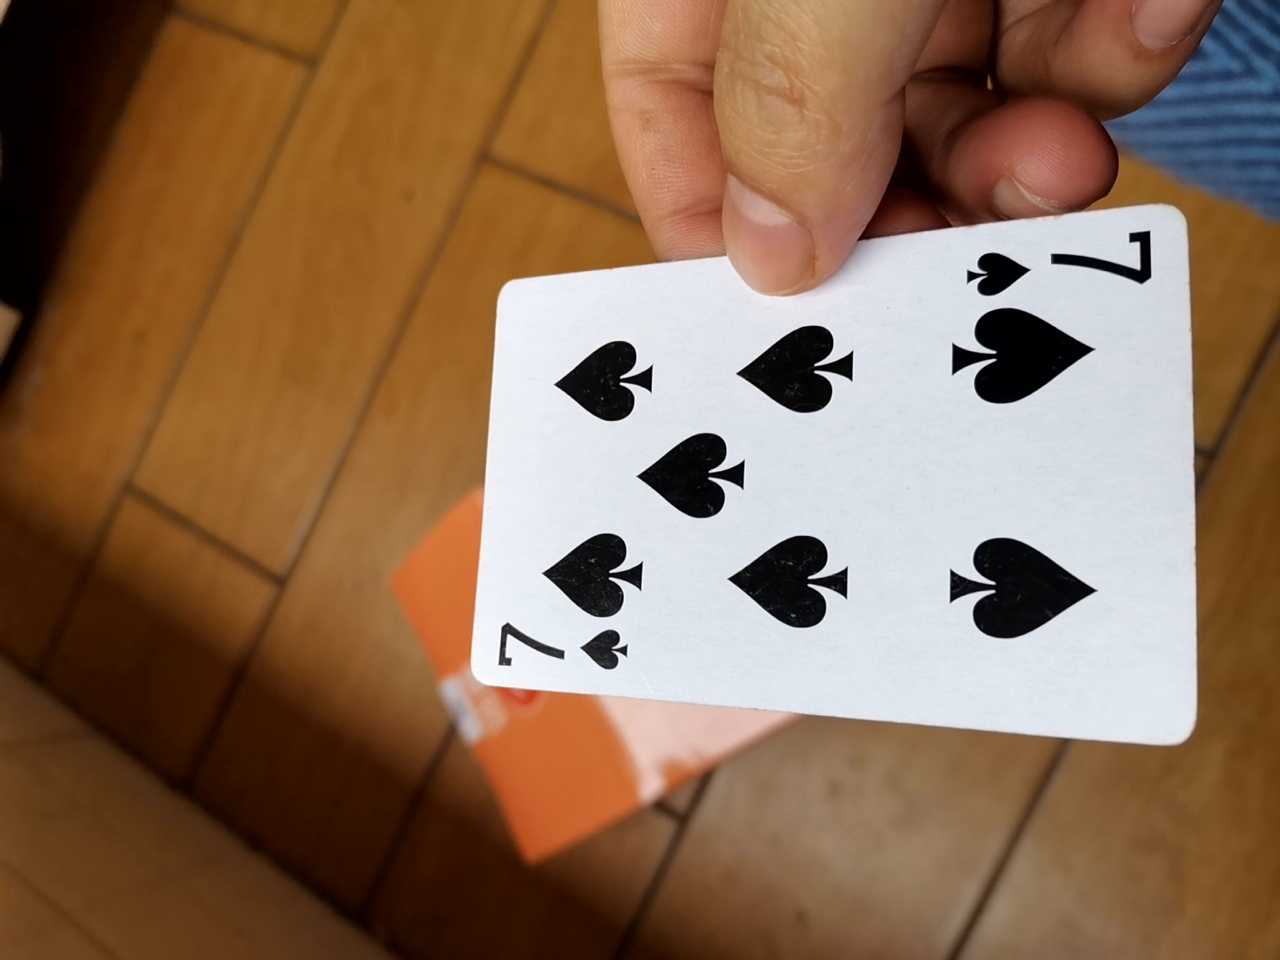ht 7: (456, 228, 1198, 746)
